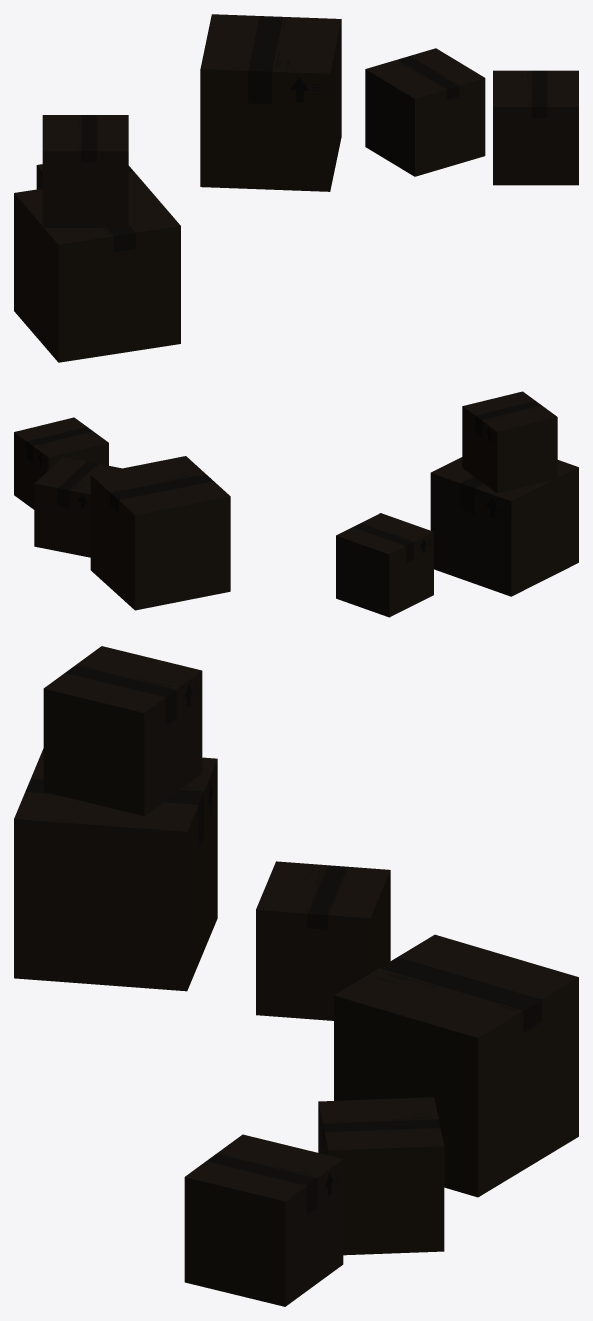
Rendered from EmptyRoomInterior3.FBX.
3 renders of one model, top to bottom at view 1: azimuth 30°, elevation 25°; view 2: azimuth 150°, elevation 25°; view 3: azimuth 270°, elevation 25°, orthographic. The views are drawn at different scales.
Parts seen in each view (by area): view 1: PackingBox_025, PackingBox_024, PackingBox_019, PackingBox_017, PackingBox_018; view 2: PackingBox_025, PackingBox_024, PackingBox_023, PackingBox_018, PackingBox_019, PackingBox_017; view 3: PackingBox_025, PackingBox_024, PackingBox_017, PackingBox_018, PackingBox_023, PackingBox_019.
Boxes of the visible parts, x1,y1,x2,y2 form: PackingBox_025: (200, 14, 341, 191); PackingBox_024: (14, 174, 180, 362); PackingBox_019: (365, 48, 485, 176); PackingBox_017: (493, 70, 578, 185); PackingBox_018: (42, 115, 128, 229); PackingBox_025: (90, 456, 230, 610); PackingBox_024: (430, 457, 578, 596); PackingBox_023: (336, 513, 433, 617); PackingBox_018: (462, 391, 557, 493); PackingBox_019: (34, 457, 121, 557); PackingBox_017: (14, 417, 108, 509); PackingBox_025: (334, 934, 578, 1197); PackingBox_024: (14, 748, 217, 991); PackingBox_017: (184, 1134, 343, 1306); PackingBox_018: (43, 646, 202, 816); PackingBox_023: (256, 861, 390, 1020); PackingBox_019: (318, 1097, 444, 1255).
Size of the model in its own units: 390 by 119 by 232.
Materials: 1 (1 with a texture image).
